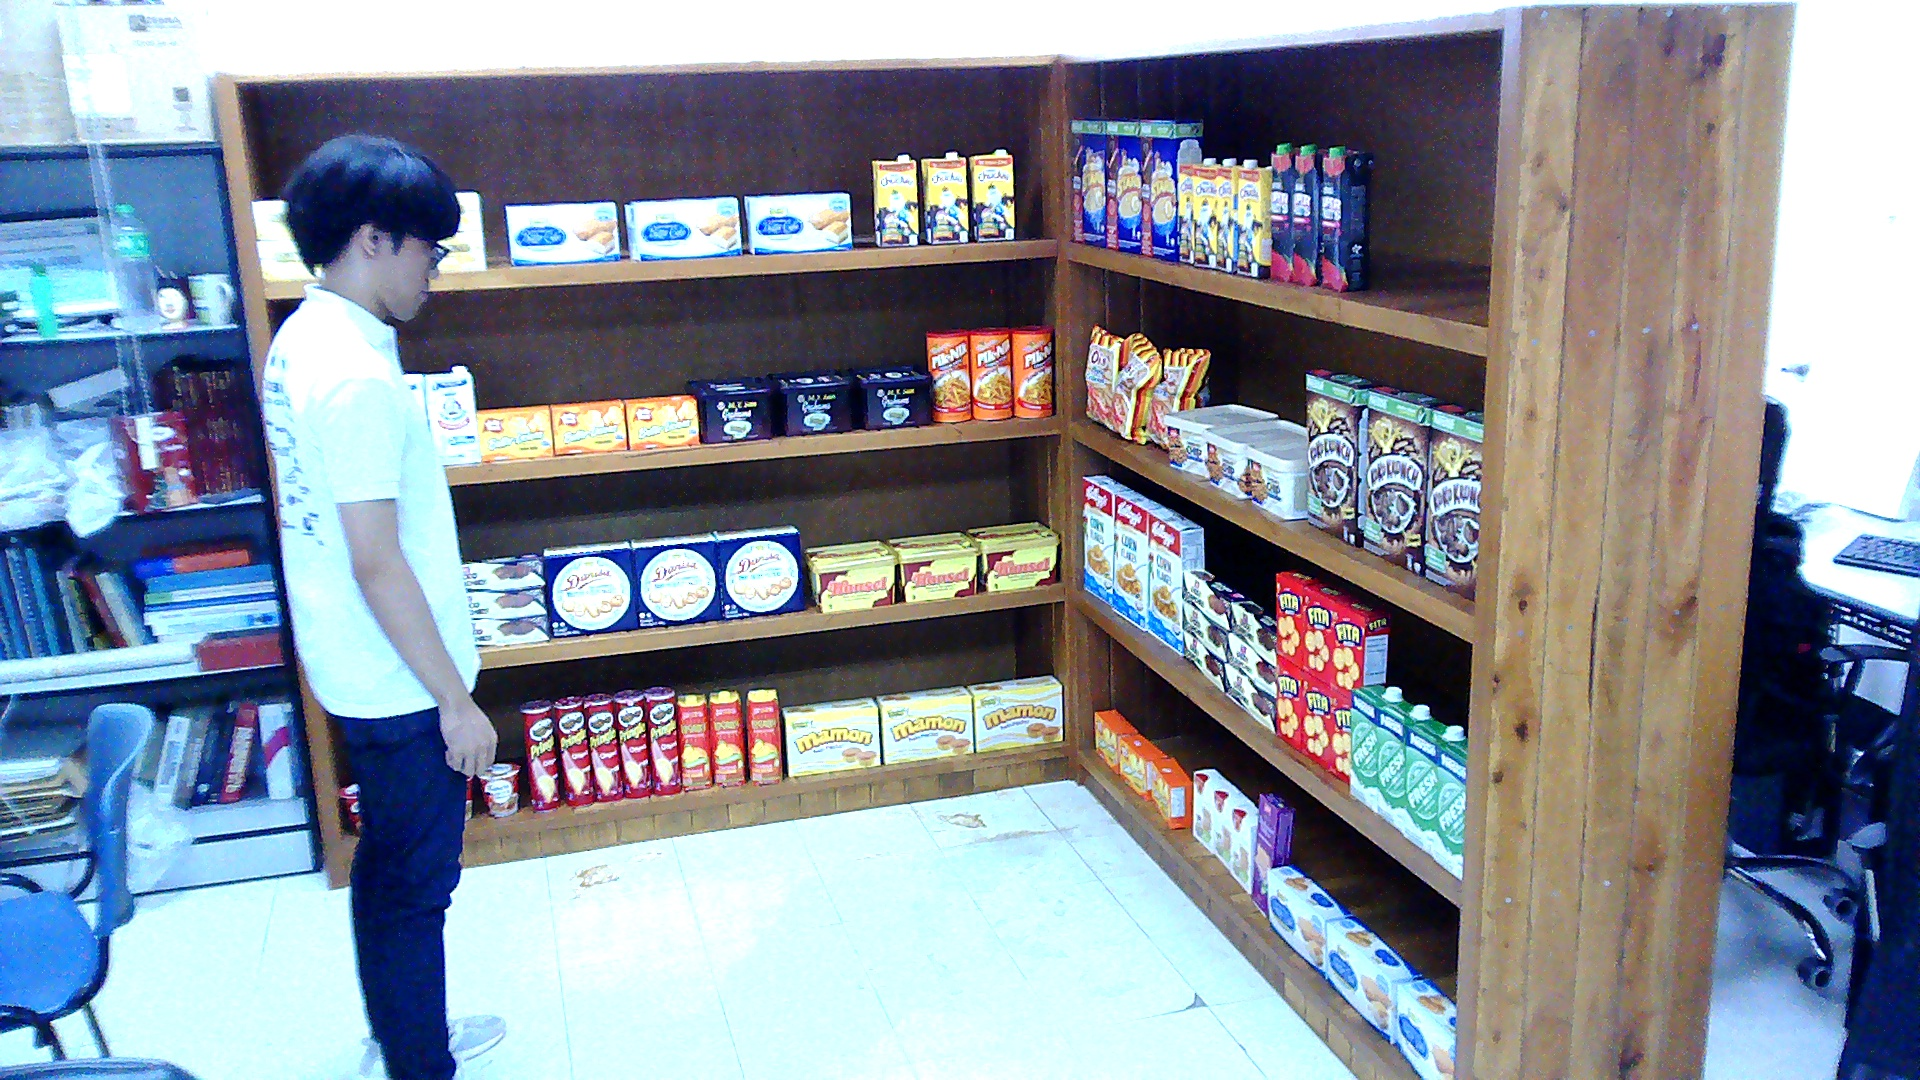Bear brand: (422, 364, 479, 463)
Buttercake: (1326, 916, 1422, 1044), (1265, 863, 1352, 976), (621, 193, 741, 261), (504, 198, 618, 266), (741, 191, 852, 254), (1395, 978, 1455, 1077)
Butterlicious: (549, 395, 627, 454), (621, 394, 699, 450), (477, 405, 552, 459), (1116, 733, 1164, 798), (1149, 756, 1191, 828), (1095, 708, 1137, 771)
Camomille: (254, 241, 311, 277), (440, 229, 485, 272), (251, 200, 290, 238)
Choco Crunchies: (1221, 661, 1275, 731), (1181, 569, 1244, 628), (462, 551, 546, 589), (1227, 632, 1275, 693), (464, 585, 545, 621), (1182, 600, 1227, 659), (1230, 598, 1272, 657), (471, 614, 549, 646), (1182, 632, 1224, 686)
Chocolate Chips: (1164, 403, 1278, 477), (1203, 418, 1305, 497), (1245, 434, 1305, 520)
Chuckie: (1215, 157, 1257, 272), (1194, 158, 1236, 268), (870, 153, 918, 247), (966, 149, 1014, 241), (920, 149, 965, 243), (1179, 155, 1215, 263), (1236, 167, 1269, 277)
Danisa: (543, 539, 639, 636), (710, 521, 803, 618), (630, 530, 720, 627)
Fita: (1332, 598, 1392, 695), (1275, 566, 1326, 663), (1305, 582, 1356, 681), (1298, 670, 1331, 767), (1275, 655, 1302, 749), (1326, 686, 1350, 783)
Fresh Milk: (1401, 717, 1464, 852), (1374, 700, 1431, 830), (1346, 684, 1403, 810), (1431, 736, 1467, 880)
Grahams: (765, 369, 852, 434), (687, 375, 771, 440), (846, 362, 930, 427)
Hansel: (885, 531, 981, 603), (804, 540, 897, 612), (966, 522, 1059, 590)
Head: (273, 128, 465, 326)
Honey Stars: (1139, 119, 1202, 261), (1104, 119, 1140, 252), (1070, 117, 1103, 245)
Kellogg Corn Flakes: (1146, 504, 1203, 650), (1109, 488, 1160, 630), (1079, 475, 1130, 605)
Kimchi Noodles: (474, 761, 519, 817)
Koko Krunch: (1361, 382, 1448, 576), (1425, 403, 1485, 601), (1305, 369, 1368, 547)
Locally Mango: (743, 689, 782, 783), (707, 691, 746, 785), (675, 692, 711, 789)
Mamon: (779, 695, 878, 776), (876, 683, 972, 762), (966, 675, 1062, 751)
Oishi Prawn: (1149, 346, 1212, 449), (1104, 333, 1161, 443), (1083, 321, 1134, 422)
Pik-nik: (924, 329, 969, 423), (969, 326, 1011, 418), (1011, 324, 1053, 416)
Pringles: (552, 695, 594, 805), (519, 700, 561, 810), (611, 686, 650, 796), (641, 684, 680, 794), (581, 693, 620, 801)
Super Fruits: (1319, 144, 1370, 290), (1269, 139, 1299, 281), (1293, 144, 1323, 286)
Wafer: (1250, 790, 1295, 916)
iHop: (1191, 767, 1233, 850), (1211, 785, 1250, 871), (1229, 803, 1256, 893)
